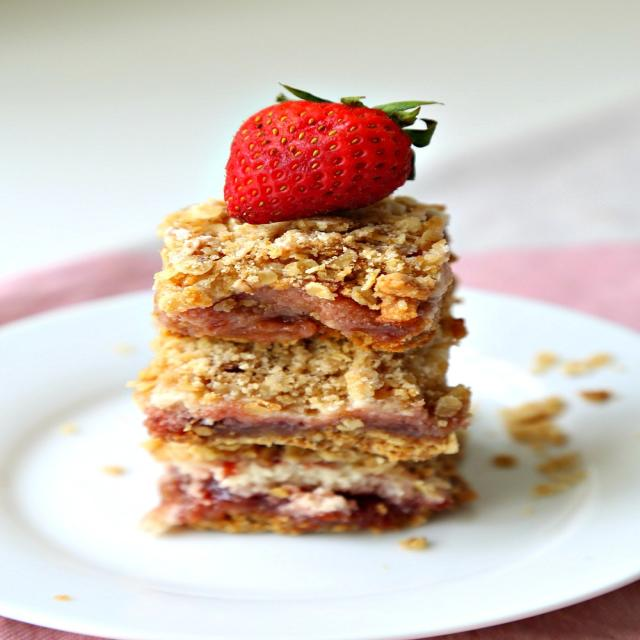strawberry: (180, 67, 468, 249)
